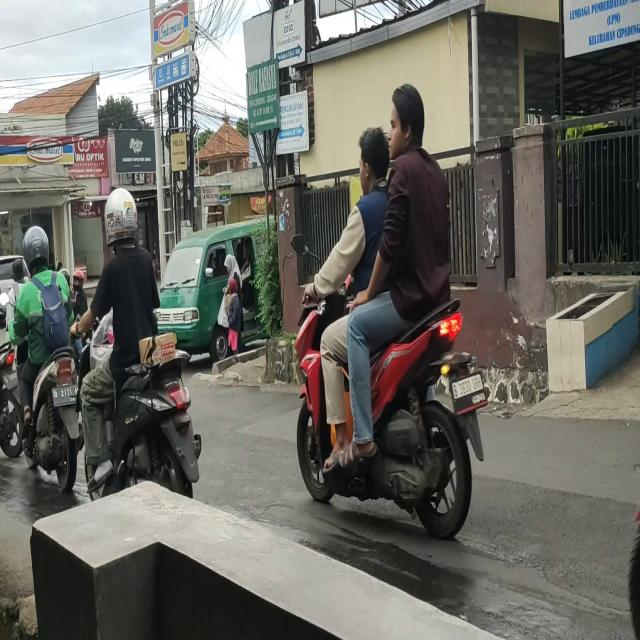helmet: (104, 186, 138, 241), (21, 228, 51, 276)
no-helmet: (392, 88, 423, 150), (360, 128, 389, 190)
